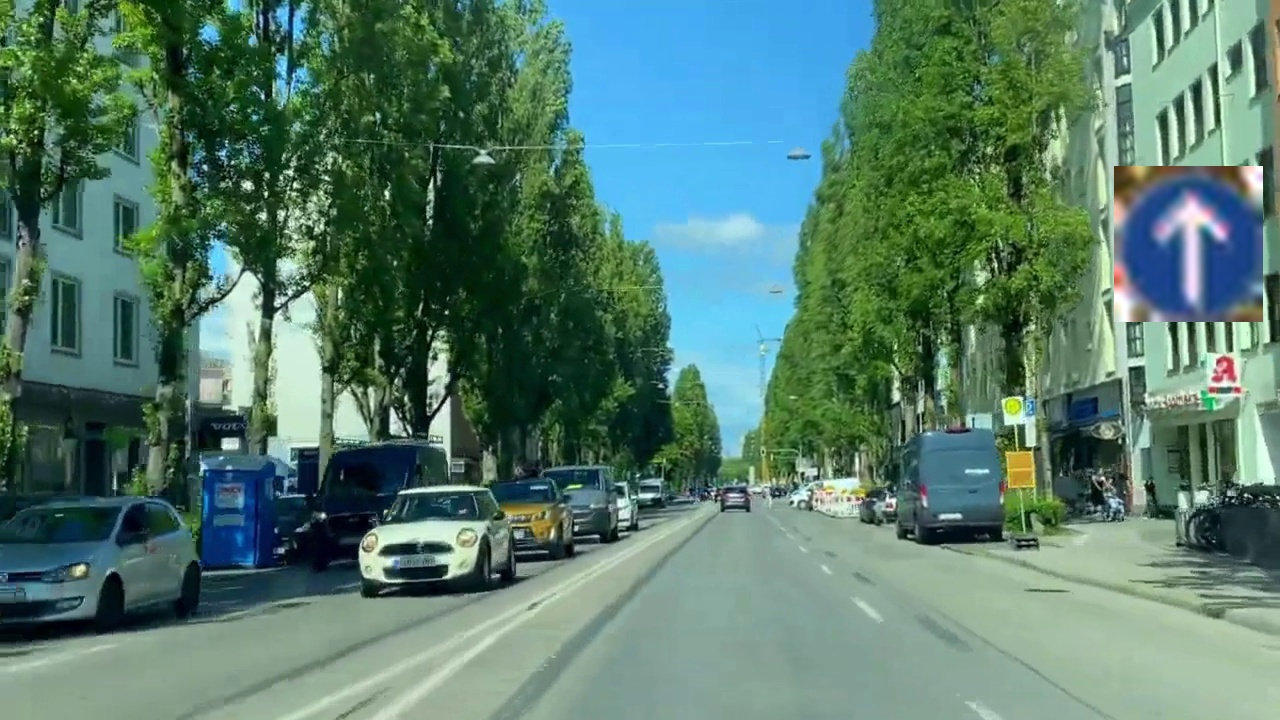Ahead only: (1114, 166, 1263, 322)
